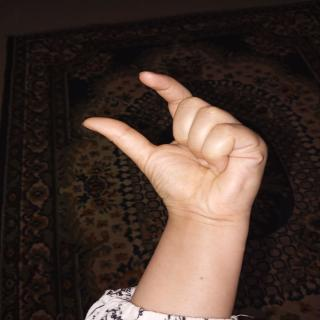DELL: (66, 63, 276, 238)
